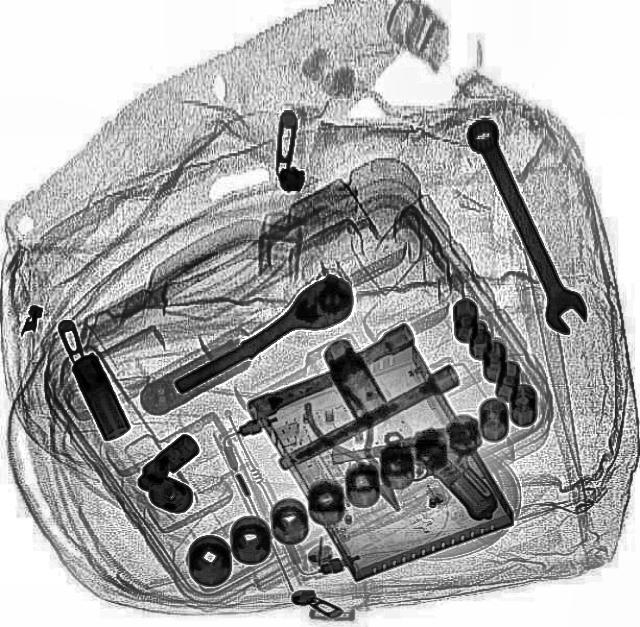Gun: (328, 421, 502, 543)
Pliers: (296, 379, 426, 525)
Wrench: (458, 113, 594, 339)
